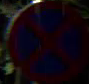No waiting: (5, 0, 88, 83)
